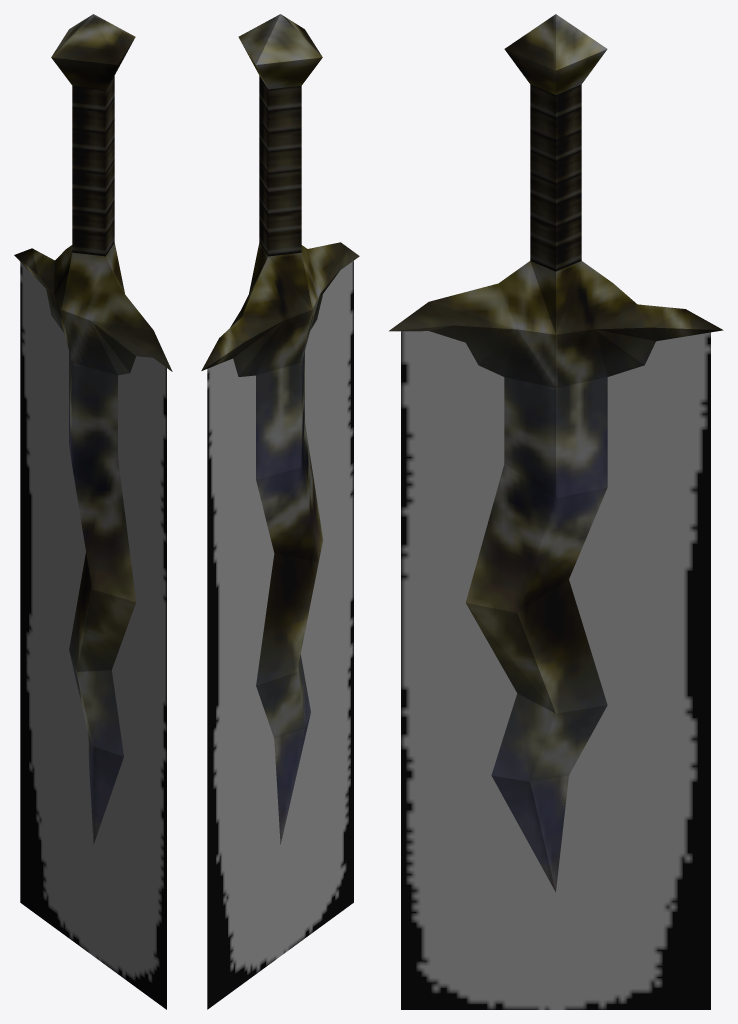
The model's file is twinblade06_1.obj.
3 renders of one model, left to right at view 1: azimuth 30°, elevation 25°; view 2: azimuth 150°, elevation 25°; view 3: azimuth 270°, elevation 25°, orthographic. The views are drawn at different scales.
Visible parts, largest first — view 1: cwdhsw06_1l; view 2: cwdhsw06_1l; view 3: cwdhsw06_1l.
Boxes of the visible parts, box(x1,y1,x2,y2) form: cwdhsw06_1l: box(14, 14, 172, 1009); cwdhsw06_1l: box(201, 14, 359, 1009); cwdhsw06_1l: box(389, 14, 723, 1009).
Bounding box in the file's own units: 0.0798 × 0.8499 × 0.2597.
